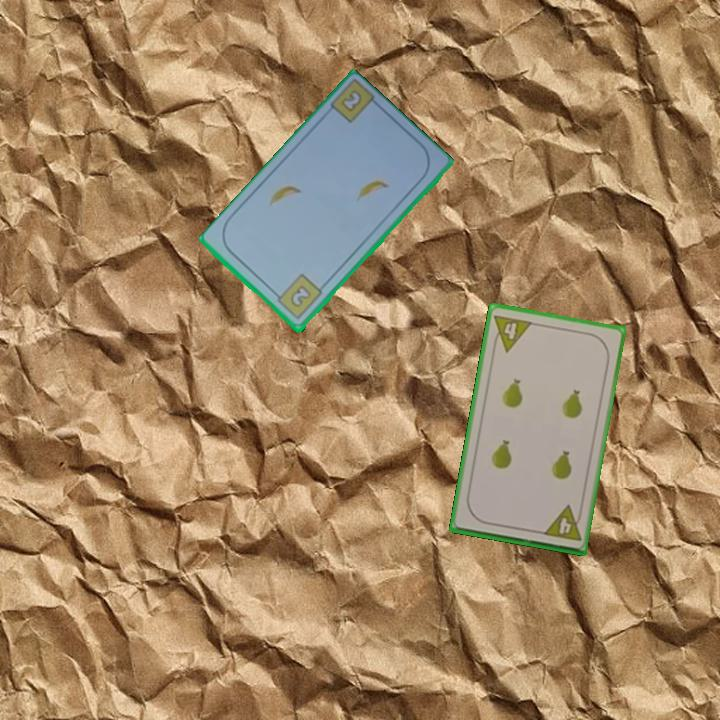2b: (270, 271, 325, 323), (338, 86, 365, 115)
4p: (489, 311, 535, 355), (539, 502, 585, 544)
